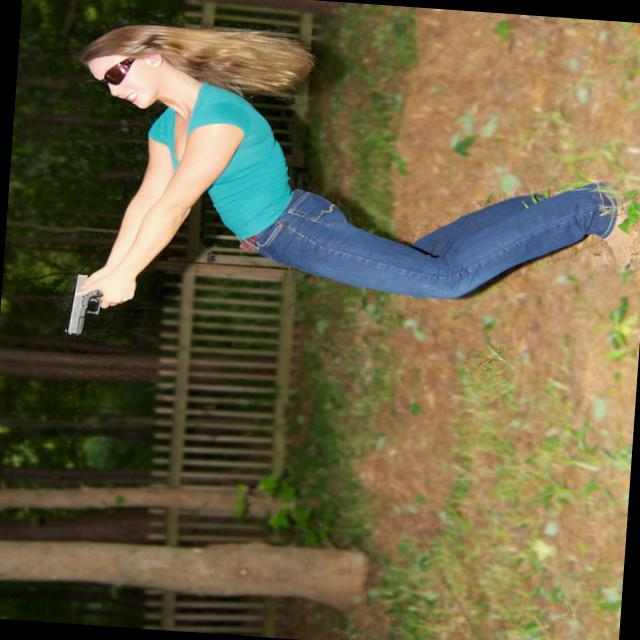handgun: (62, 268, 125, 338)
